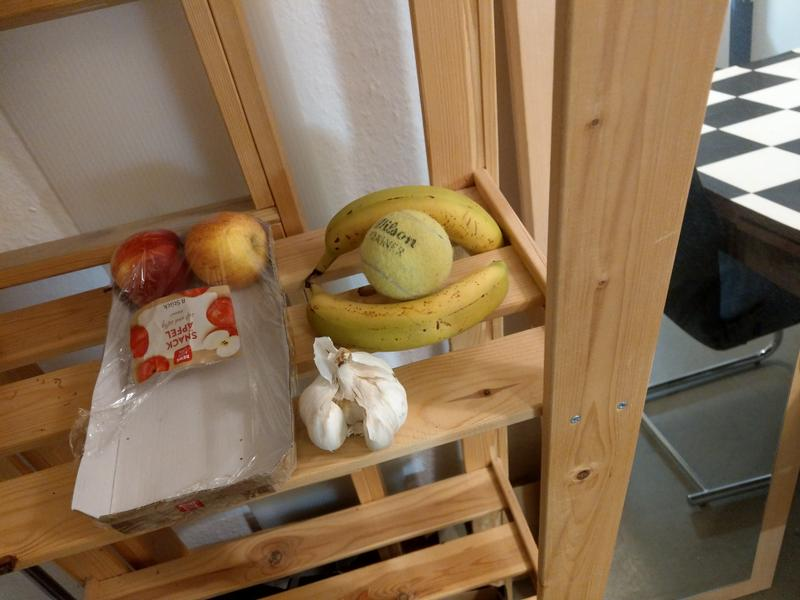Tennisball: (358, 207, 456, 306)
